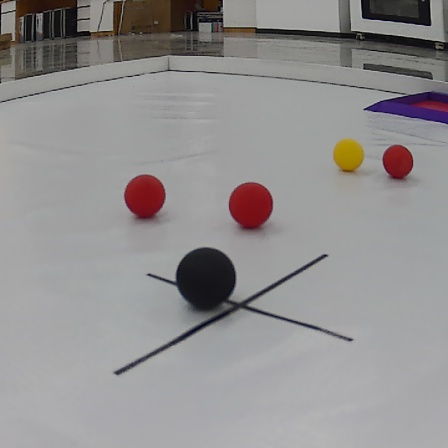black: (172, 246, 236, 309)
red: (228, 178, 274, 225), (122, 174, 167, 218), (383, 145, 416, 176)
red_aim: (368, 84, 448, 128)
yellow: (331, 138, 365, 173)
